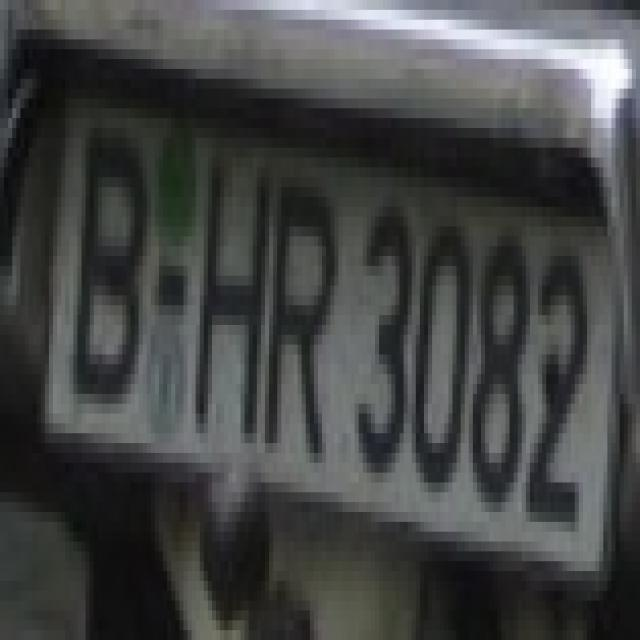LicensePlate: (50, 41, 616, 588)
